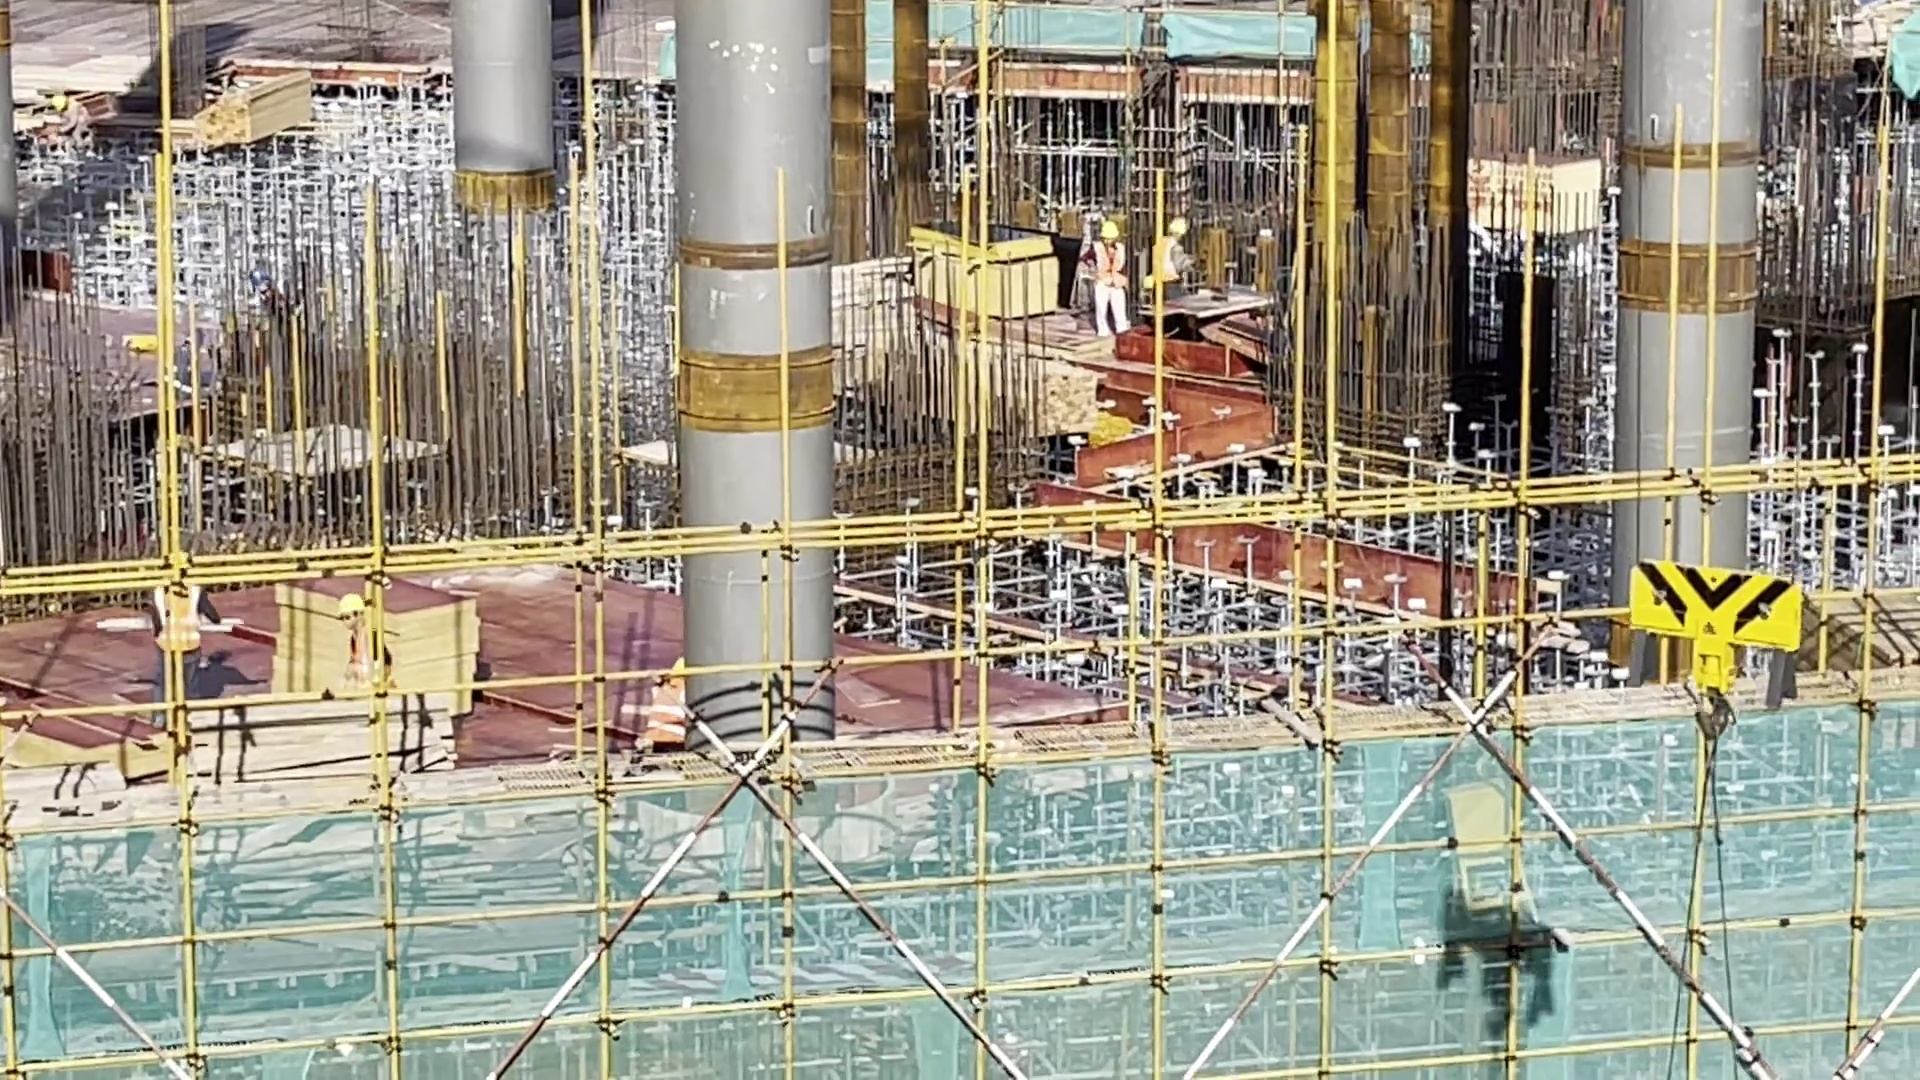board: (277, 570, 486, 727), (911, 218, 1066, 323), (1812, 605, 1920, 682)
ebox: (1427, 781, 1563, 935)
helmet: (339, 589, 372, 630), (667, 652, 697, 687), (1167, 217, 1192, 247), (1098, 219, 1119, 247)
hook: (1612, 538, 1838, 707)
person: (140, 552, 233, 709), (329, 594, 394, 719), (630, 642, 696, 757), (1083, 218, 1138, 341), (1152, 211, 1202, 318)
vest: (639, 682, 694, 747), (160, 582, 204, 655), (352, 632, 393, 679), (1094, 243, 1127, 294), (1155, 240, 1180, 287)
wood: (179, 691, 458, 817), (187, 66, 330, 163)
